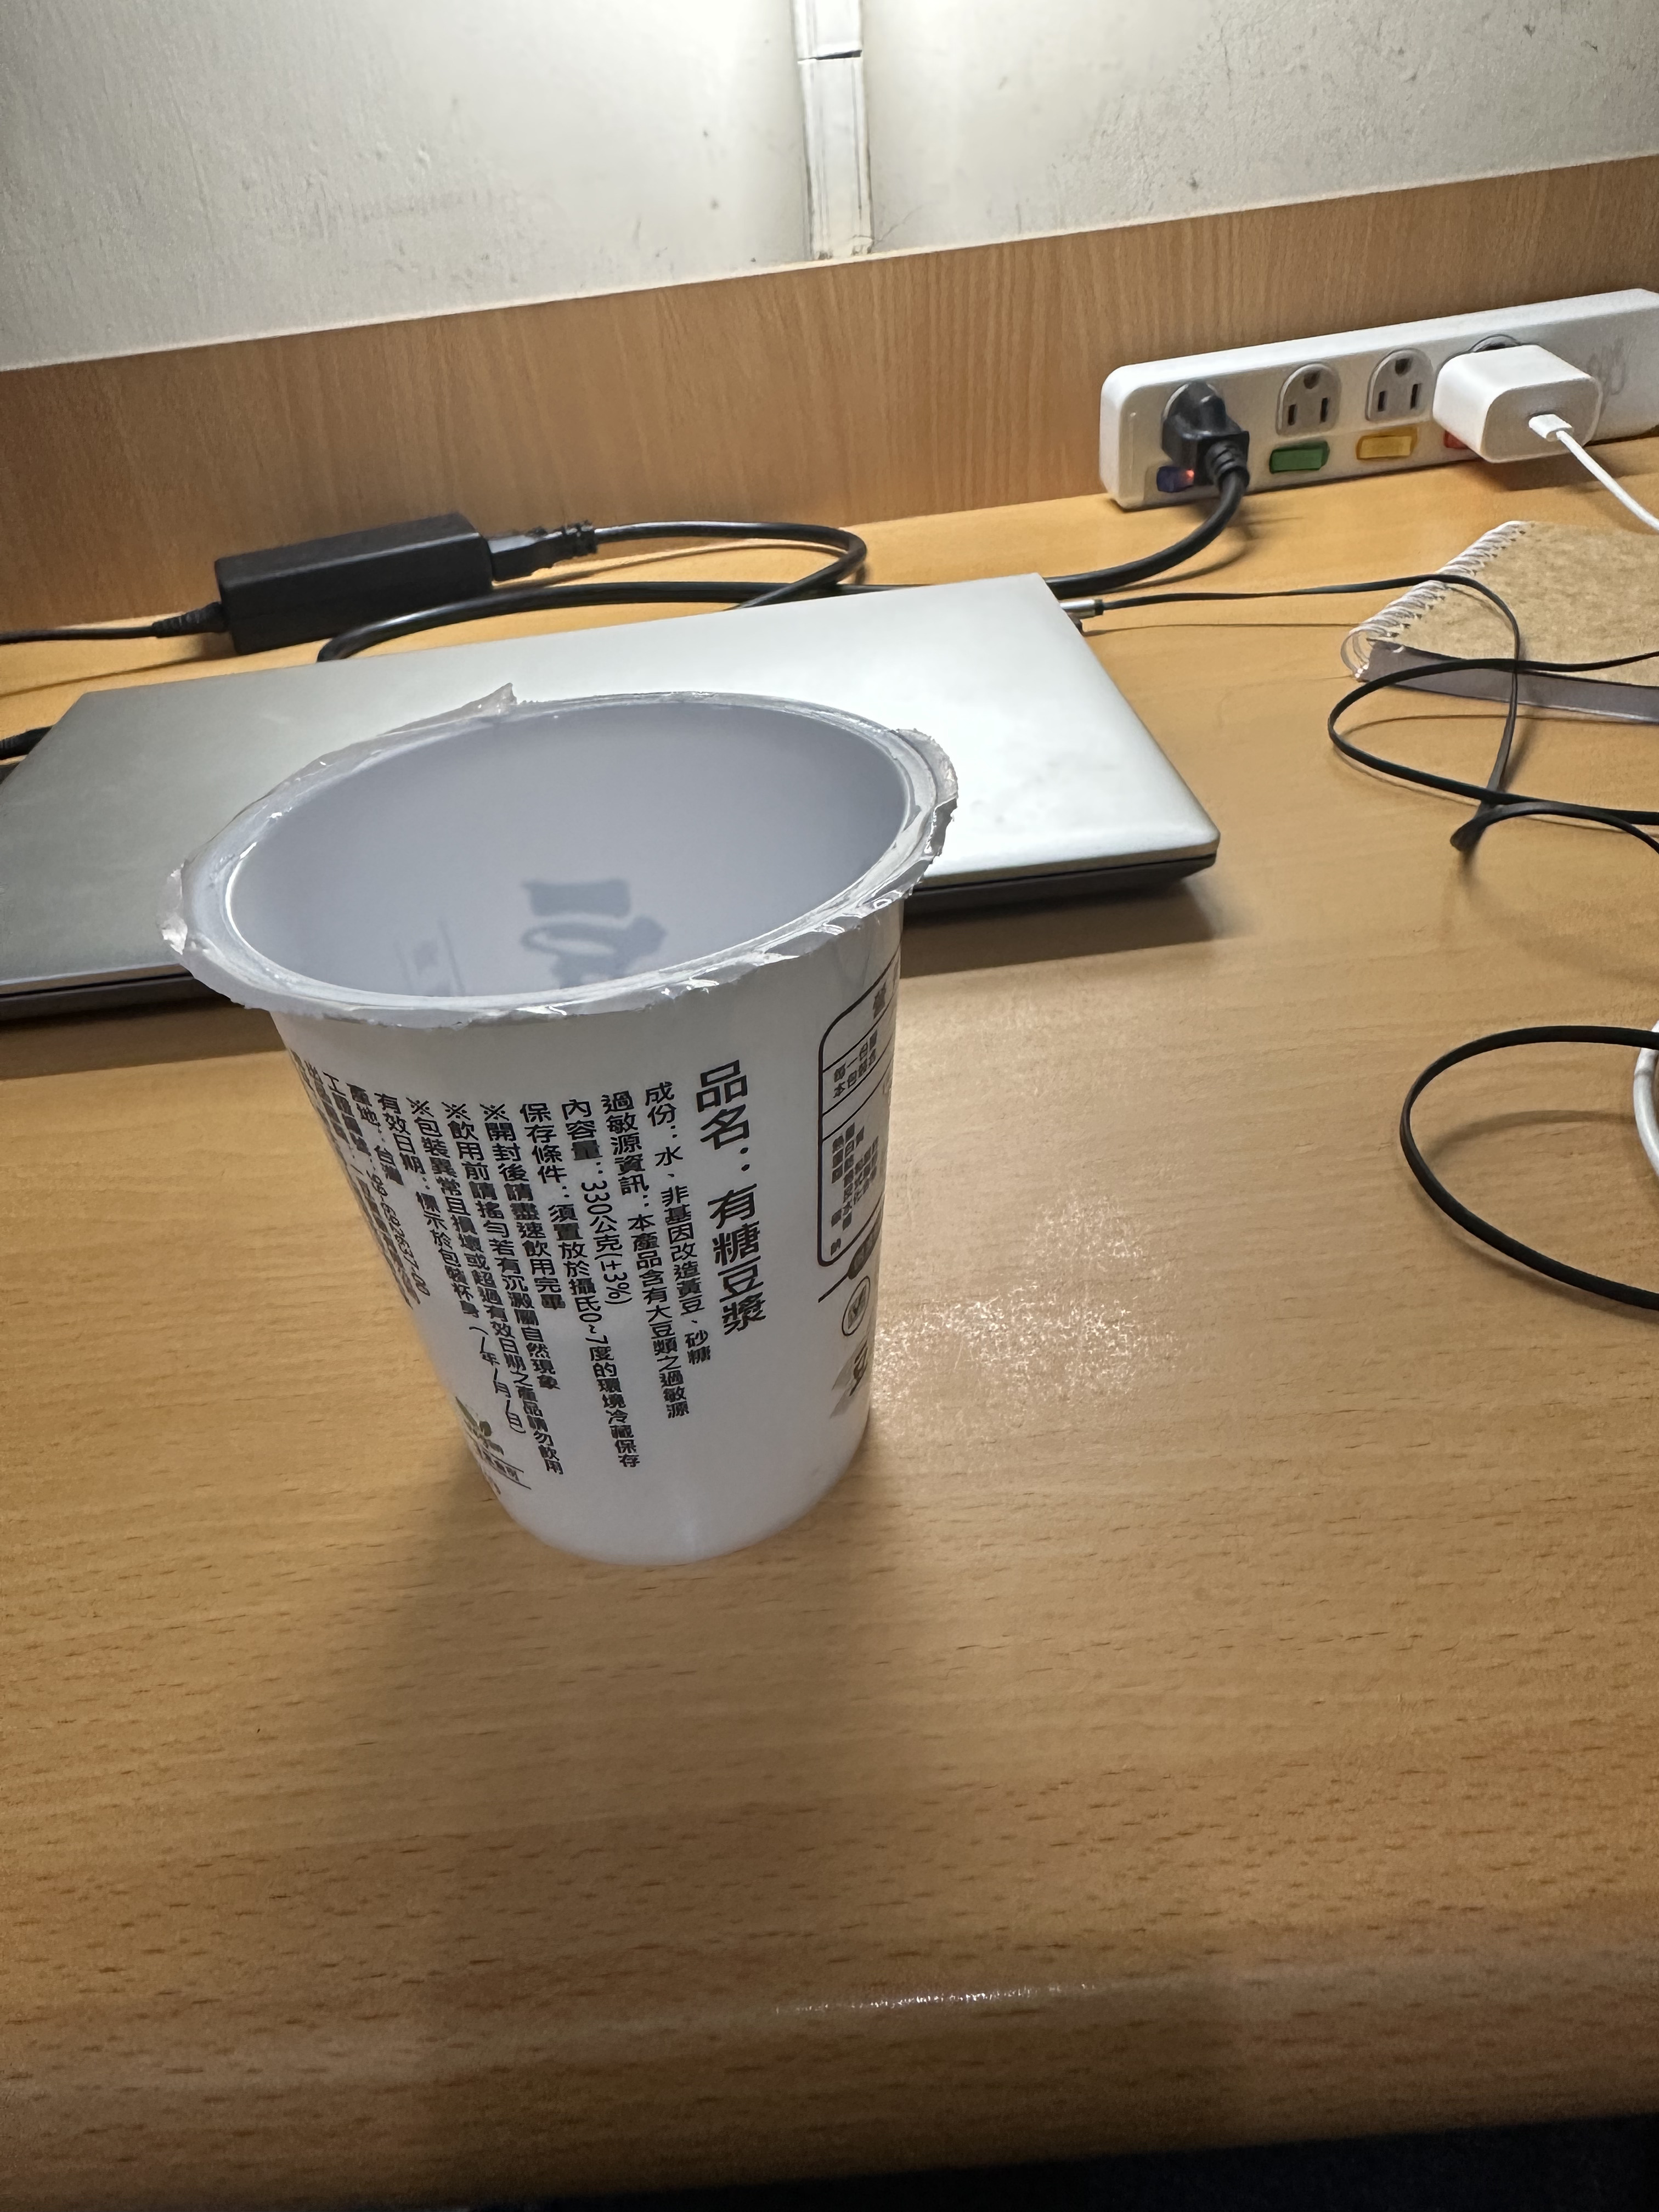cup: (166, 691, 962, 1566)
